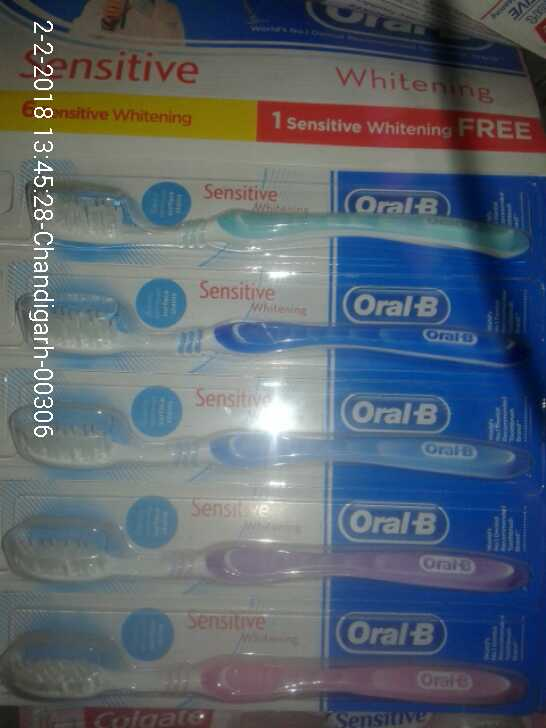oralb: (3, 508, 538, 602), (16, 390, 527, 487), (26, 179, 527, 277), (8, 624, 526, 716), (7, 291, 531, 378)
